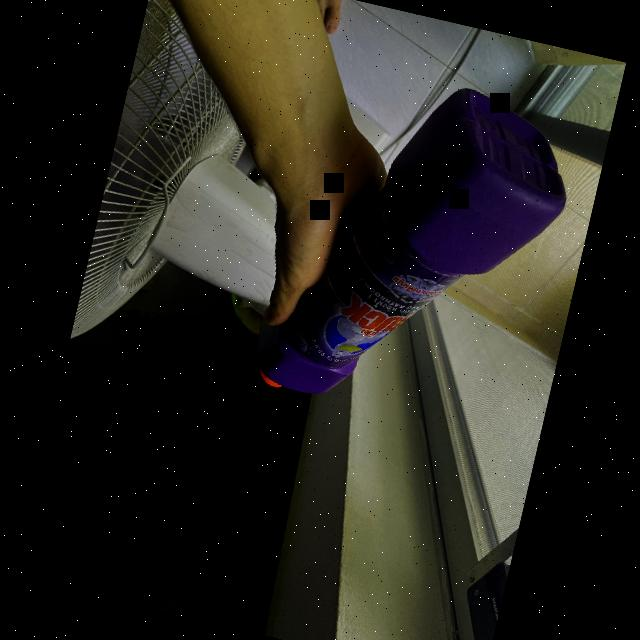chemical_plastic_bottle: (242, 50, 584, 450)
